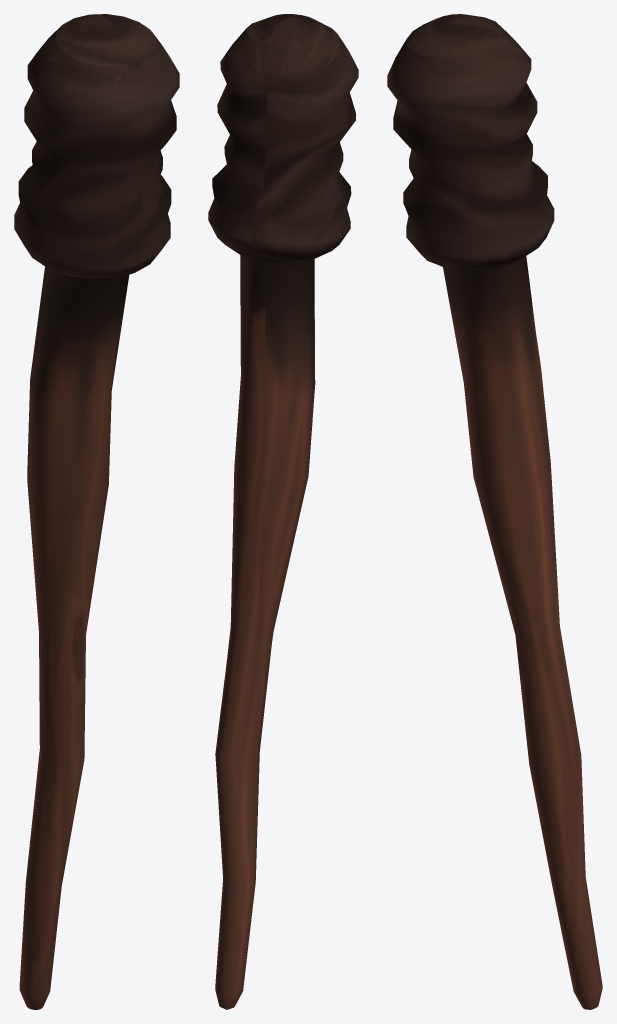
The model's file is TorchModel.FBX.
3 renders of one model, left to right at view 1: azimuth 30°, elevation 25°; view 2: azimuth 150°, elevation 25°; view 3: azimuth 270°, elevation 25°, orthographic. The views are drawn at different scales.
Parts seen in each view (by area): view 1: Cylinder001; view 2: Cylinder001; view 3: Cylinder001.
Boxes of the visible parts, x1,y1,x2,y2 form: Cylinder001: [14, 14, 179, 1009]; Cylinder001: [208, 14, 358, 1009]; Cylinder001: [387, 14, 602, 1009].
Size of the model in its own units: 0.1338 by 0.1901 by 0.9638.
1 material, 1 textured.
